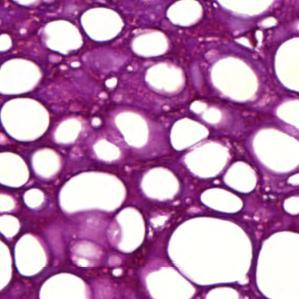steatosis: (0, 96, 51, 142), (79, 6, 123, 44), (275, 34, 299, 95), (199, 187, 246, 215), (0, 151, 30, 189), (0, 237, 13, 291)
